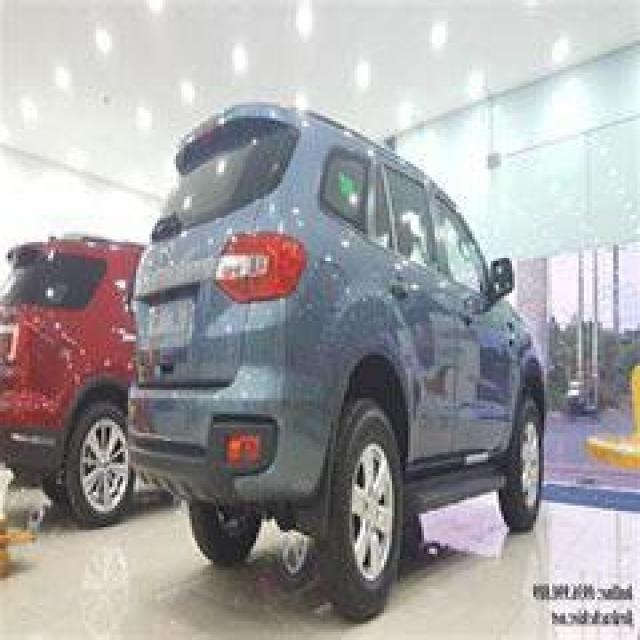car: (105, 85, 556, 633), (6, 175, 198, 554)
